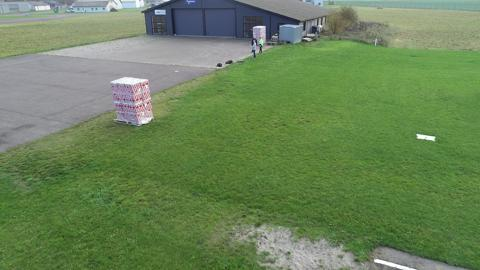RockwoolPallet: (252, 25, 267, 47)
